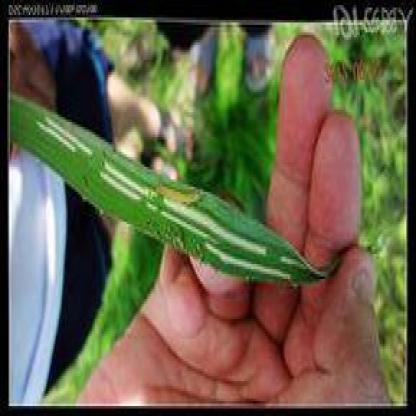leaf-folder: (146, 173, 209, 215)
